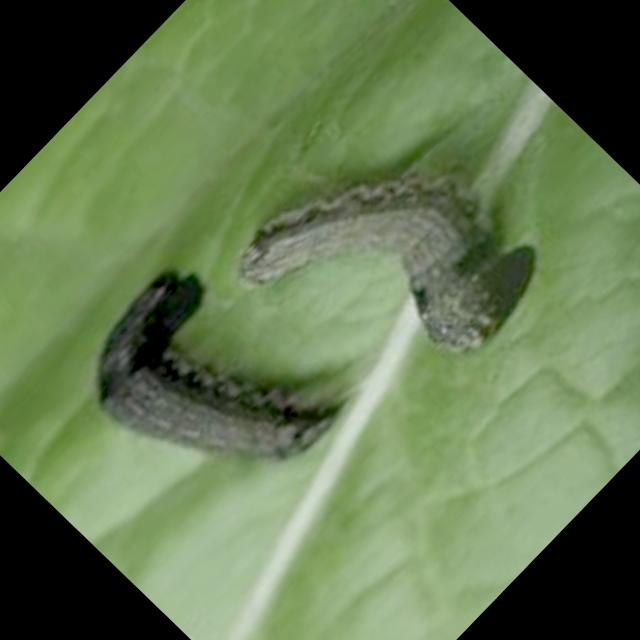Tobacco cutworm: (191, 59, 611, 476), (6, 202, 390, 584)
